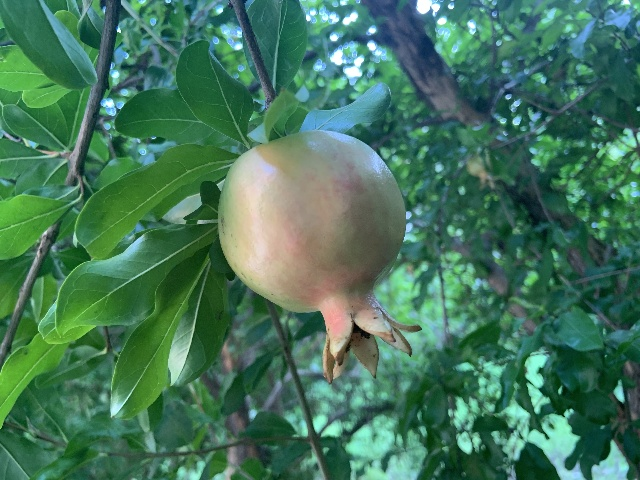mid-growth: (216, 130, 420, 386), (466, 157, 495, 190)
